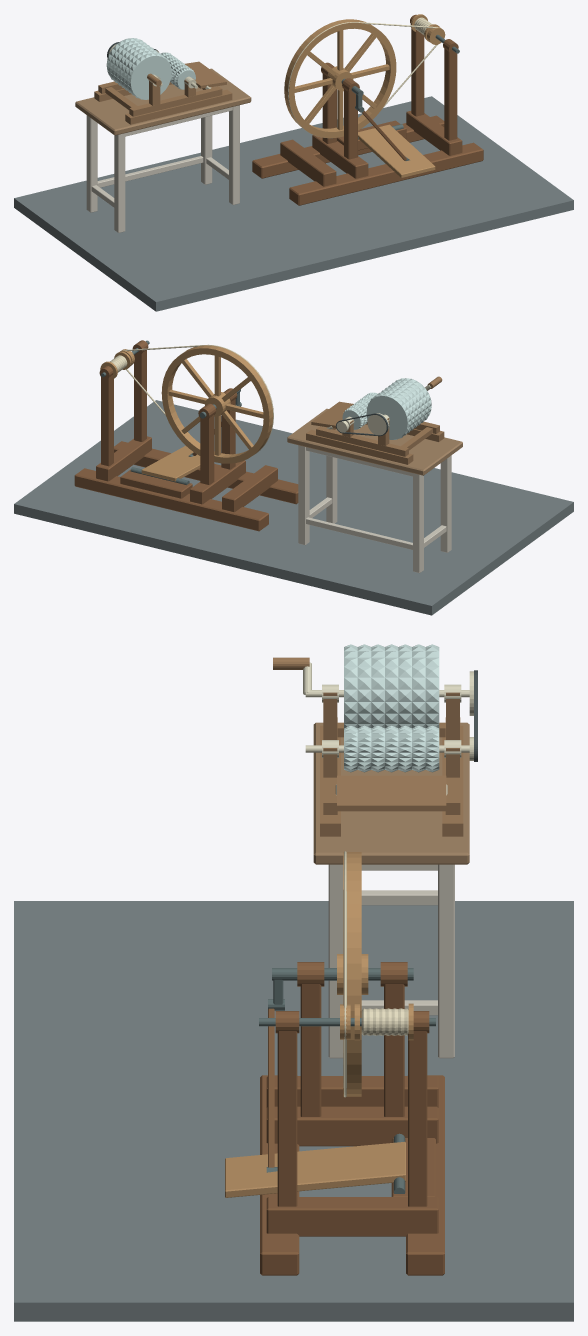
3 views of the same model, one above another, from view 1: azimuth 30°, elevation 25°; view 2: azimuth 150°, elevation 25°; view 3: azimuth 270°, elevation 25° (orthographic). The views are drawn at different scales.
Parts seen in each view (by area): view 1: SceneOnlyFibreCornerFloor, DriveRim, GroundFoot_Front, Complete work surface, WholeIntegralToothedDrum1, TreadleBoard, BaseCrossbar_Left, GroundFoot_Rear, SpindlePost_Front, Worktable leg, BaseCrossbar_Spindle, SpindlePost_Rear (+13 smaller); view 2: SceneOnlyFibreCornerFloor, GroundFoot_Rear, DriveRim, Complete work surface, WholeIntegralToothedDrum1, GroundFoot_Front, BaseCrossbar_Left, TreadleBoard, SpindlePost_Rear, Worktable leg.003, BaseCrossbar_Spindle, SpindlePost_Front (+14 smaller); view 3: SceneOnlyFibreCornerFloor, Complete work surface, WholeIntegralToothedDrum1, TreadleBoard, BaseCrossbar_Spindle, BaseCrossbar_Wheel, WholeIntegralToothedDrum0, WholeShallowFeedBoard, SpindlePost_Front, DriveRim, SpindlePost_Rear, Worktable leg.003 (+12 smaller).
Boxes of the visible parts, left/top/right/bottom form: SceneOnlyFibreCornerFloor: left=14, top=96, right=573, bottom=311; DriveRim: left=284, top=19, right=396, bottom=138; GroundFoot_Front: left=289, top=142, right=483, bottom=205; Complete work surface: left=75, top=68, right=251, bottom=135; WholeIntegralToothedDrum1: left=106, top=38, right=171, bottom=99; TreadleBoard: left=358, top=124, right=435, bottom=177; BaseCrossbar_Left: left=280, top=139, right=336, bottom=186; GroundFoot_Rear: left=252, top=115, right=444, bottom=178; SpindlePost_Front: left=444, top=48, right=457, bottom=140; Worktable leg: left=114, top=133, right=125, bottom=232; BaseCrossbar_Spindle: left=406, top=111, right=462, bottom=155; SpindlePost_Rear: left=411, top=28, right=424, bottom=116; SceneOnlyFibreCornerFloor: left=14, top=400, right=573, bottom=615; GroundFoot_Rear: left=74, top=468, right=268, bottom=531; DriveRim: left=161, top=345, right=273, bottom=463; Complete work surface: left=287, top=408, right=462, bottom=475; WholeIntegralToothedDrum1: left=366, top=378, right=431, bottom=439; GroundFoot_Front: left=114, top=441, right=298, bottom=504; BaseCrossbar_Left: left=222, top=465, right=277, bottom=512; TreadleBoard: left=141, top=445, right=200, bottom=481; SpindlePost_Rear: left=101, top=375, right=113, bottom=466; Worktable leg.003: left=298, top=445, right=309, bottom=545; BaseCrossbar_Spindle: left=96, top=436, right=151, bottom=481; SpindlePost_Front: left=134, top=350, right=146, bottom=441; SceneOnlyFibreCornerFloor: left=14, top=901, right=573, bottom=1321; Complete work surface: left=313, top=722, right=469, bottom=864; WholeIntegralToothedDrum1: left=344, top=644, right=439, bottom=728; TreadleBoard: left=225, top=1141, right=405, bottom=1197; BaseCrossbar_Spindle: left=266, top=1197, right=438, bottom=1236; BaseCrossbar_Wheel: left=266, top=1106, right=438, bottom=1146; WholeIntegralToothedDrum0: left=344, top=725, right=439, bottom=772; WholeShallowFeedBoard: left=337, top=775, right=446, bottom=811; SpindlePost_Front: left=277, top=1031, right=297, bottom=1206; DriveRim: left=343, top=852, right=361, bottom=1096; SpindlePost_Rear: left=408, top=1031, right=427, bottom=1206; Worktable leg.003: left=438, top=864, right=454, bottom=1058.
Size of the model in its own units: 3.65 by 1.47 by 2.15.
